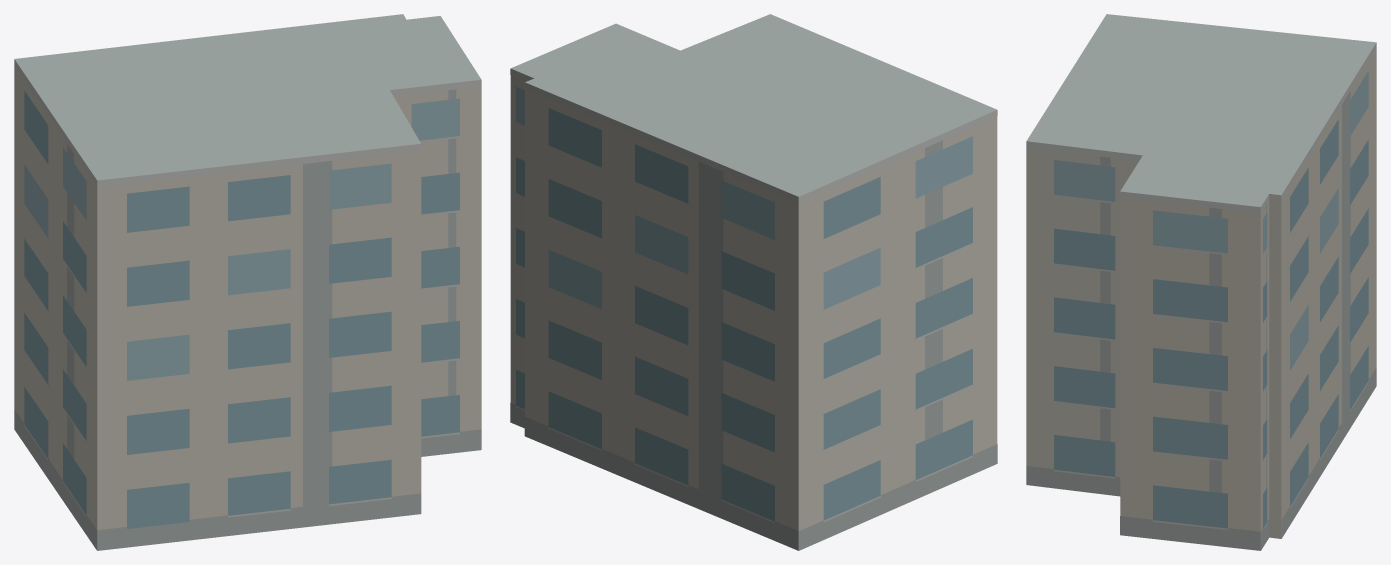
Rendered from survey-upis-32748265.glb.
3 views of the same model, side by side, from view 1: azimuth 30°, elevation 25°; view 2: azimuth 150°, elevation 25°; view 3: azimuth 270°, elevation 25° (orthographic). The views are drawn at different scales.
Visible parts, largest first — view 1: survey-upis-32748265.tmp; view 2: survey-upis-32748265.tmp; view 3: survey-upis-32748265.tmp.
Part boxes in pixels (<box>): survey-upis-32748265.tmp: <box>14,14,481,550</box>; survey-upis-32748265.tmp: <box>510,14,997,550</box>; survey-upis-32748265.tmp: <box>1026,14,1376,550</box>.
Bounding box in the file's own units: 15.91 × 13.2 × 12.2.
